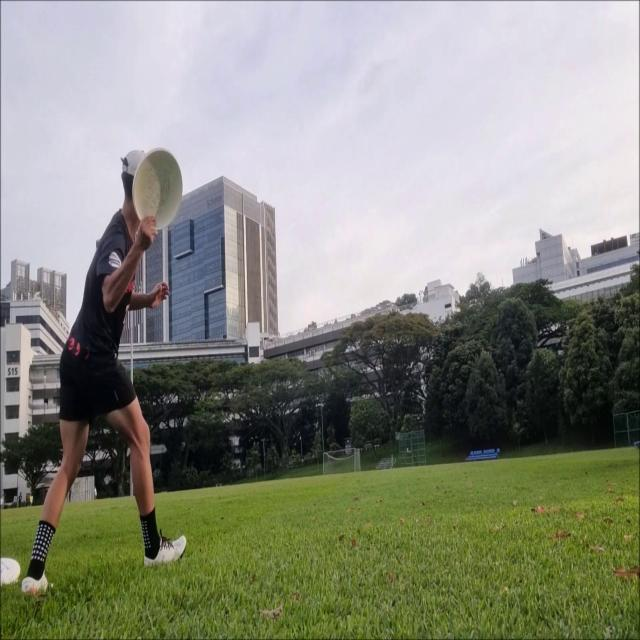disc: (132, 146, 183, 231)
